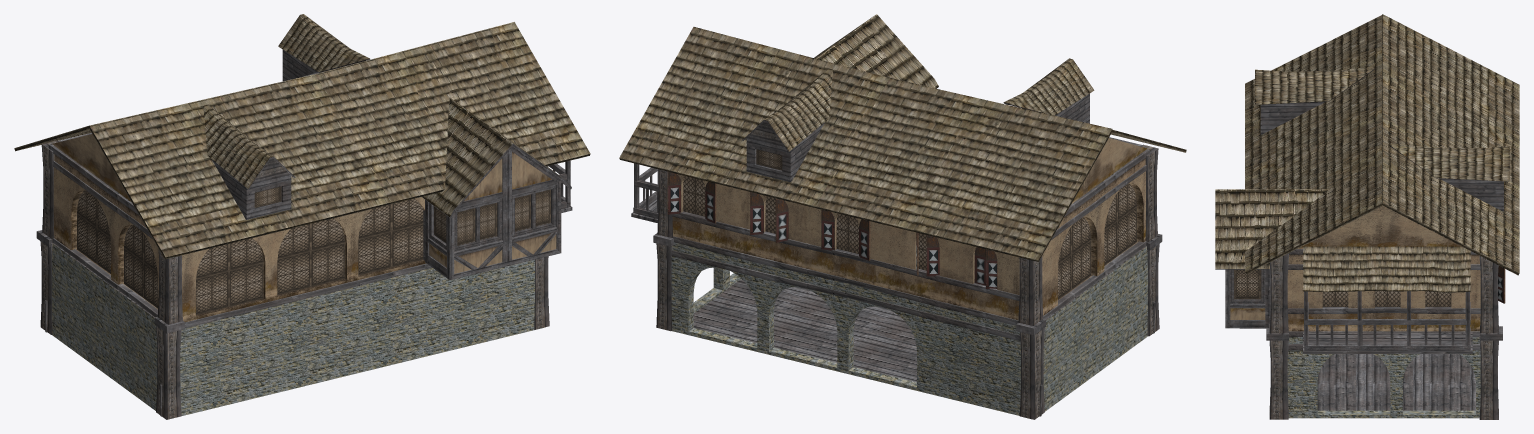
Rendered from tavern3_LOD.dae.
3 views of the same model, side by side, from view 1: azimuth 30°, elevation 25°; view 2: azimuth 150°, elevation 25°; view 3: azimuth 270°, elevation 25° (orthographic). The views are drawn at different scales.
Visible parts, largest first — view 1: house; view 2: house; view 3: house.
Part boxes in pixels (bbox=[...]): house: bbox=[14, 14, 590, 419]; house: bbox=[619, 14, 1186, 419]; house: bbox=[1215, 14, 1519, 419].
Bounding box in the file's own units: 26.61 × 14.65 × 17.58.
